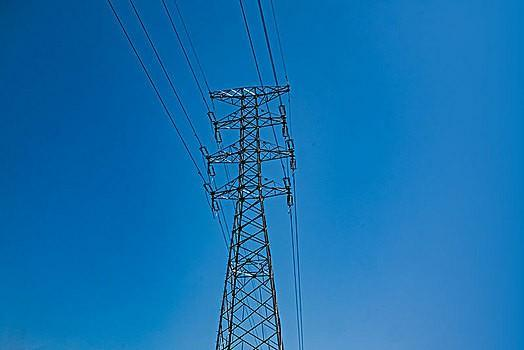power_tower: (203, 80, 312, 343)
